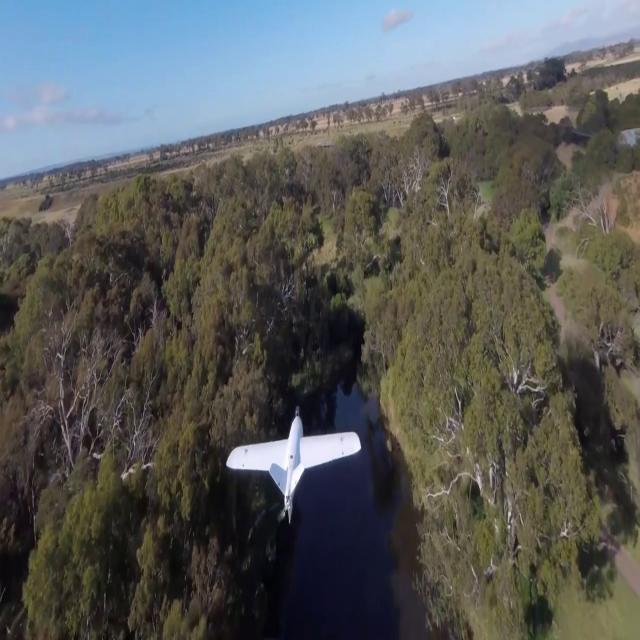iha: (230, 446, 360, 488)
